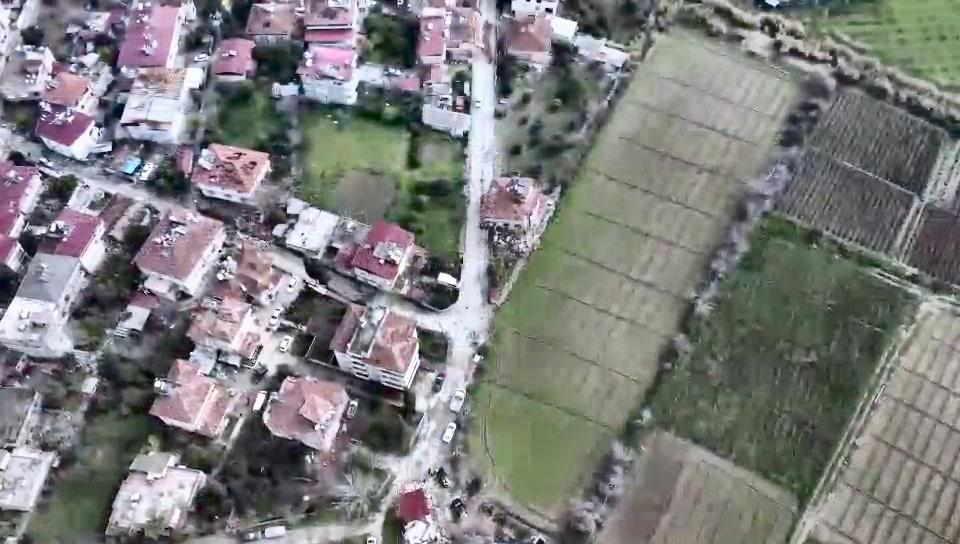kapali: (144, 190, 287, 267), (471, 0, 496, 81)
